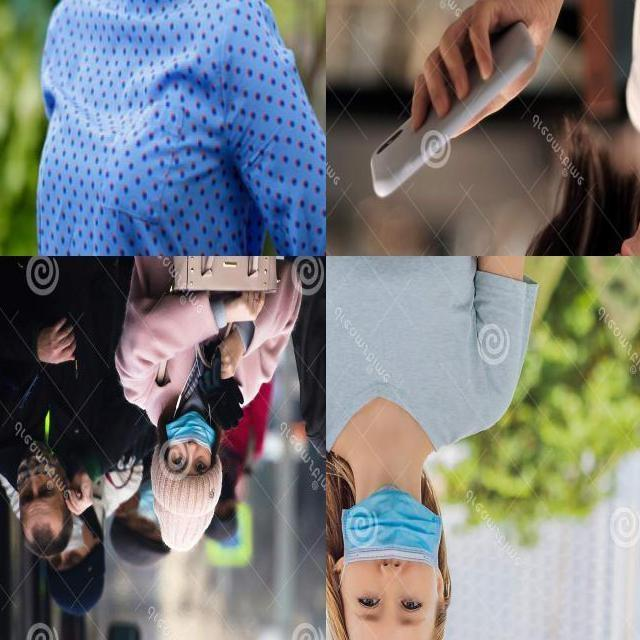hairnet: (341, 484, 446, 585), (161, 414, 210, 455)
